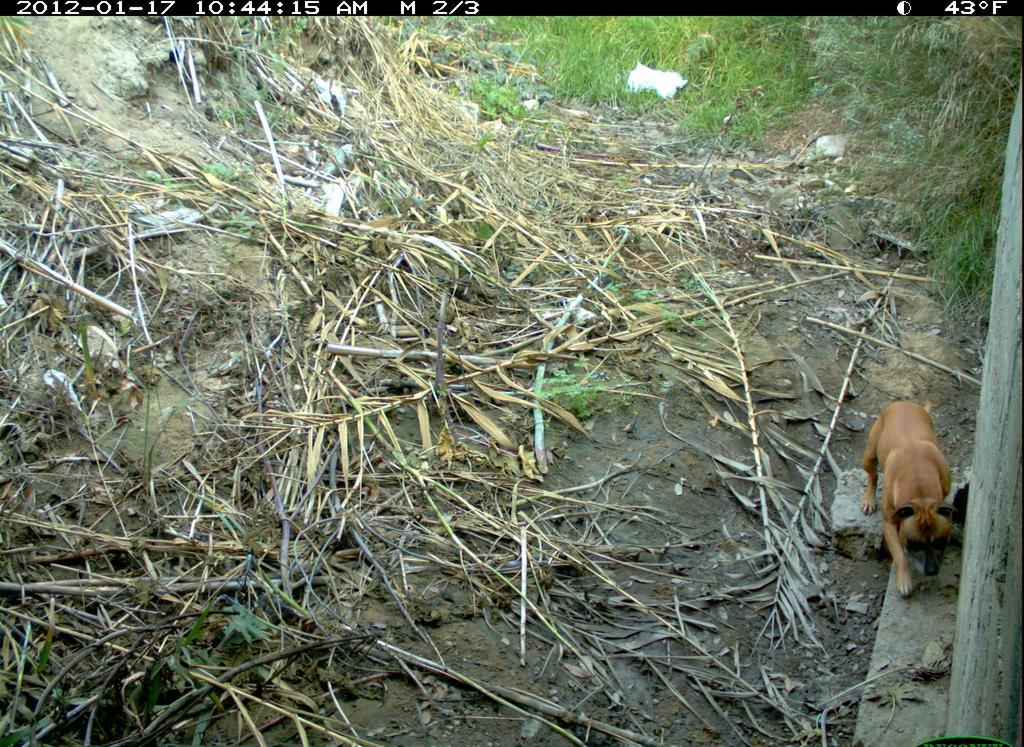dog: (859, 391, 965, 603)
